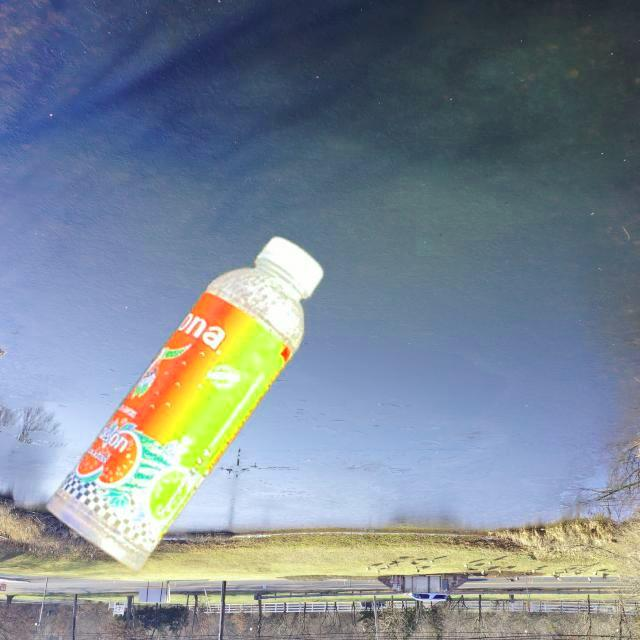Plastic: (39, 233, 327, 575)
